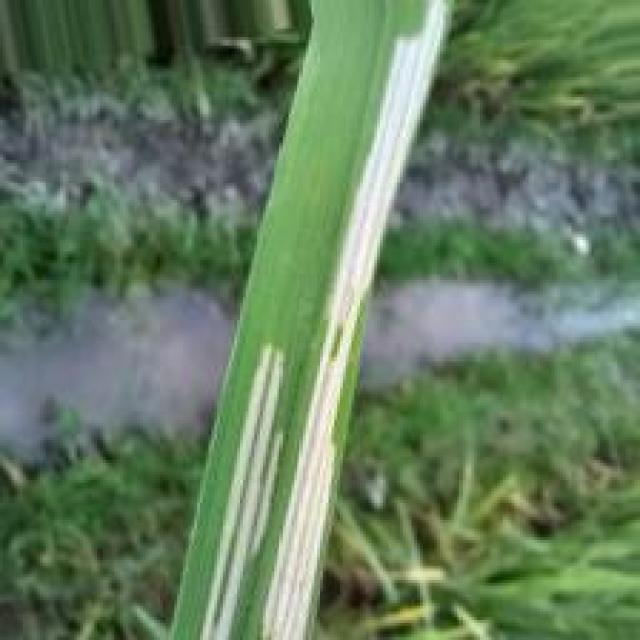Rice_Hispa: (255, 0, 453, 640), (197, 347, 288, 640)
